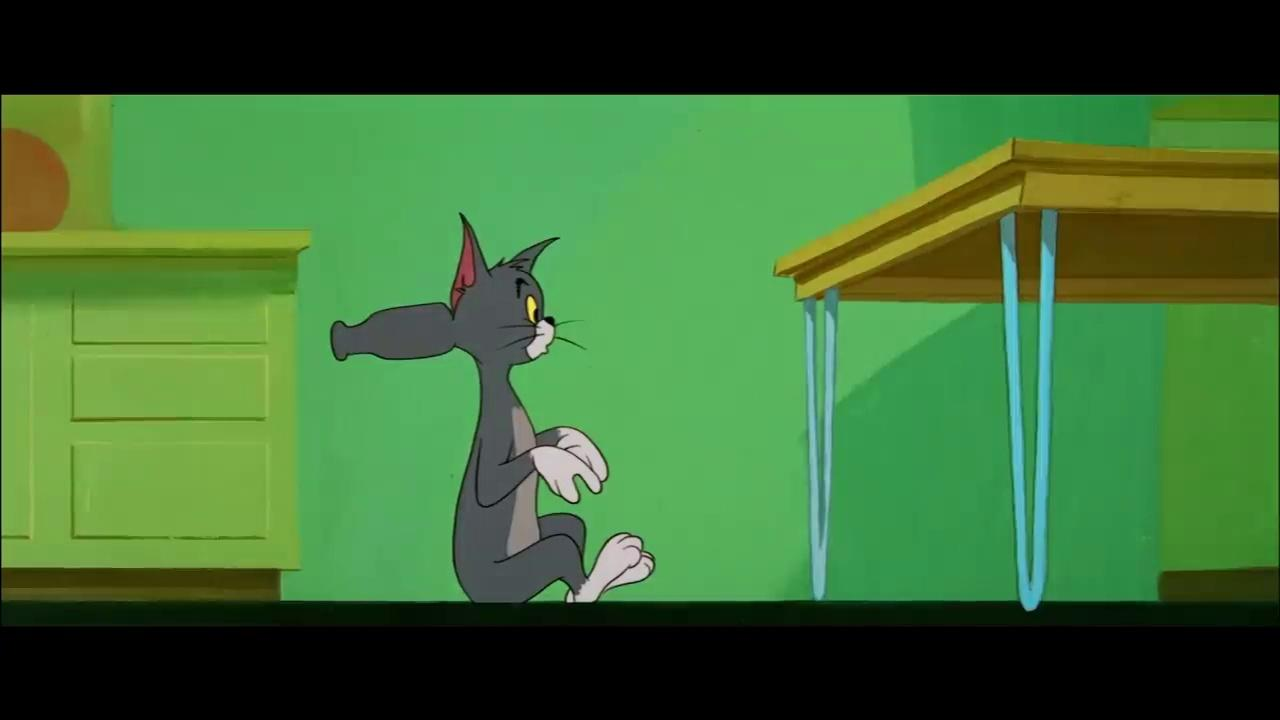Tom: (325, 207, 661, 604)
